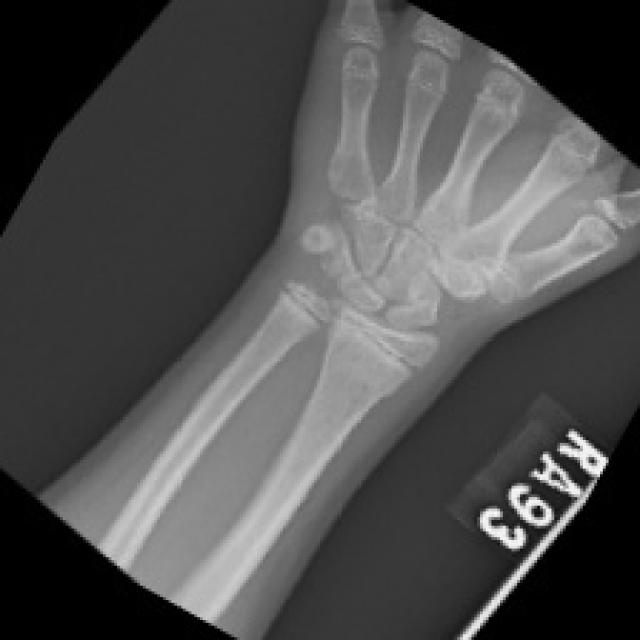fracture: (273, 197, 363, 297)
